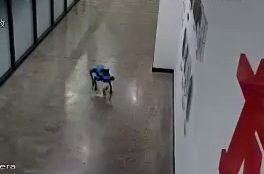robot dog: (82, 62, 121, 94)
